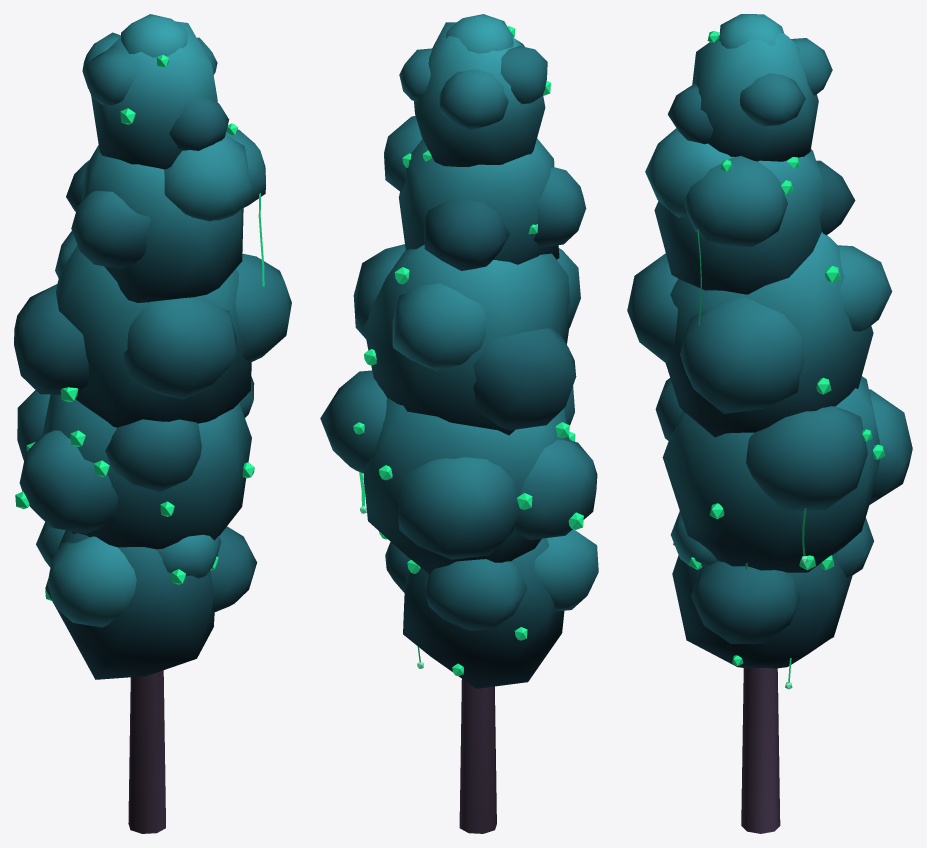
The model's file is SM_PandoraTree_Poplar.fbx.
3 views of the same model, side by side, from view 1: azimuth 30°, elevation 25°; view 2: azimuth 150°, elevation 25°; view 3: azimuth 270°, elevation 25° (orthographic).
Parts seen in each view (by area): view 1: SM_PandoraTree_Poplar; view 2: SM_PandoraTree_Poplar; view 3: SM_PandoraTree_Poplar.
Boxes of the visible parts, left/top/right/bottom form: SM_PandoraTree_Poplar: left=14, top=14, right=291, bottom=833; SM_PandoraTree_Poplar: left=320, top=14, right=598, bottom=833; SM_PandoraTree_Poplar: left=627, top=14, right=912, bottom=833.
Size of what is drawn, in the model's own units: 4.35 by 13.77 by 4.39.
